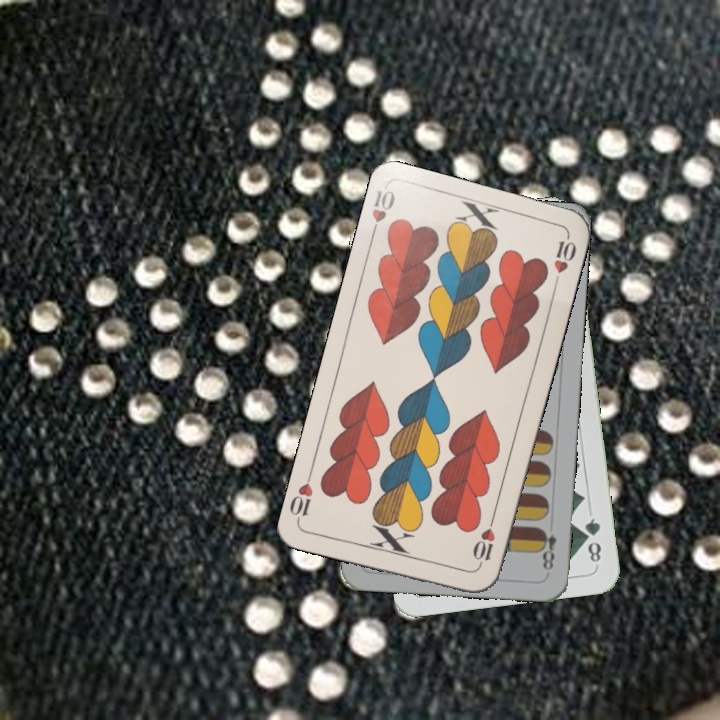E8: (535, 524, 559, 573)
G8: (579, 514, 604, 565)
H10: (366, 184, 398, 242), (469, 513, 498, 571)
